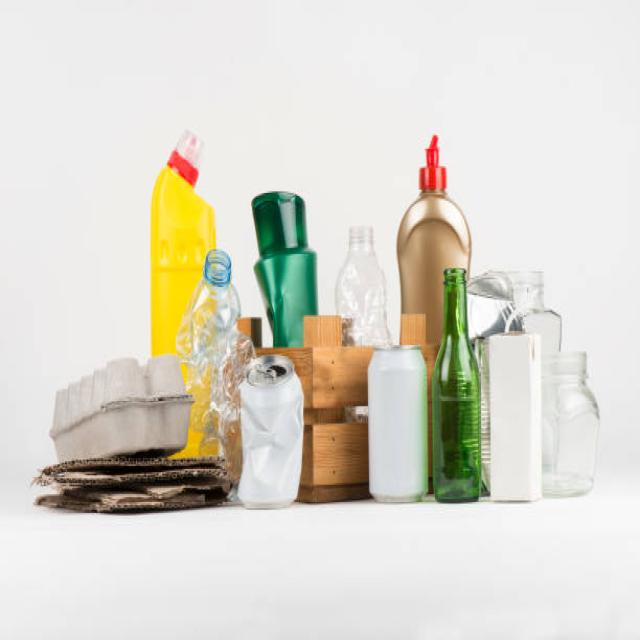cardboard: (39, 337, 190, 507)
glass: (435, 266, 483, 506), (488, 323, 542, 518), (545, 344, 589, 504)
metal: (361, 330, 436, 500), (238, 349, 310, 506)
plastic: (150, 104, 344, 257), (184, 257, 243, 436)
